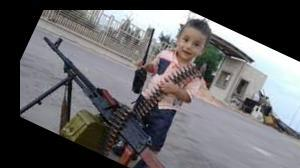larga: (21, 37, 167, 168)
